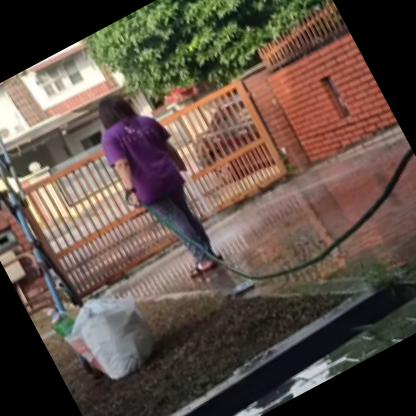Human Body: (82, 74, 236, 285)
